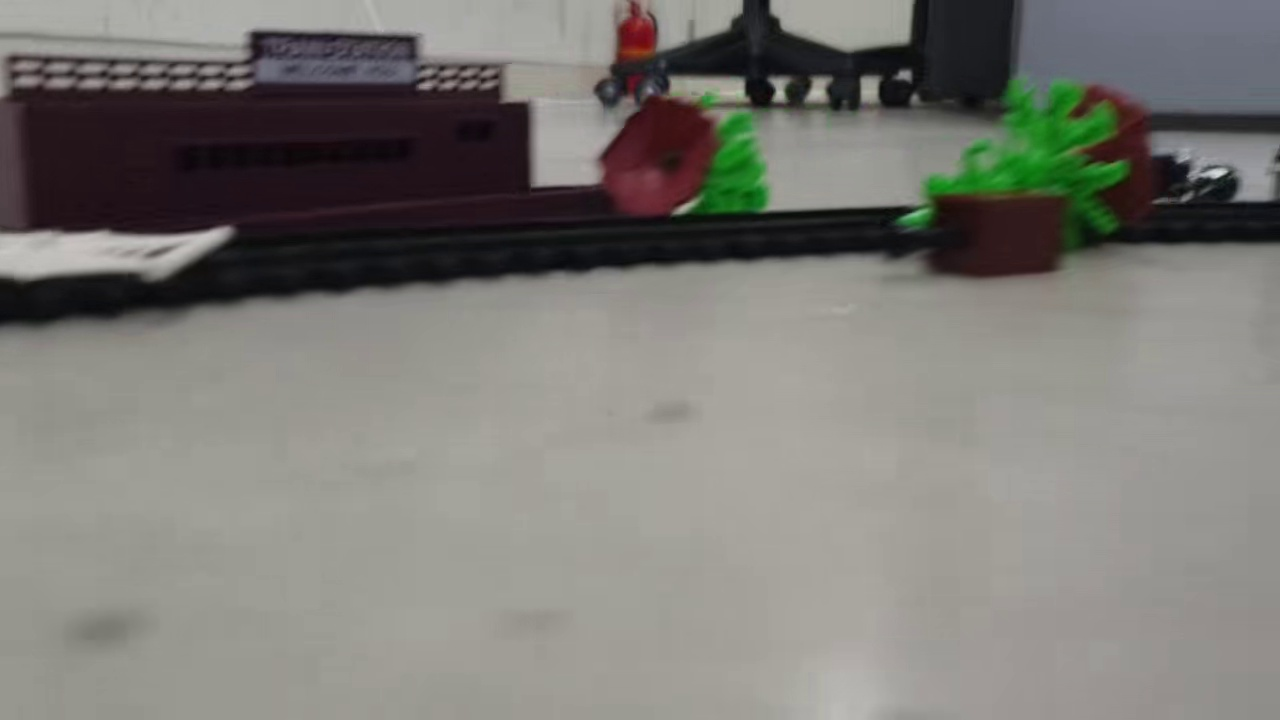box: (889, 193, 1069, 281)
people: (1142, 147, 1241, 203)
tree: (893, 76, 1158, 253), (594, 92, 775, 223)
web: (1, 222, 239, 283)
